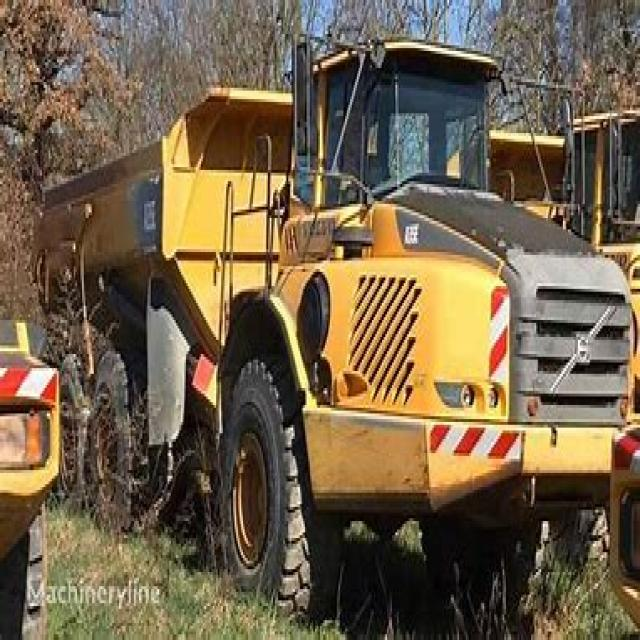dump_truck: (22, 40, 638, 603)
